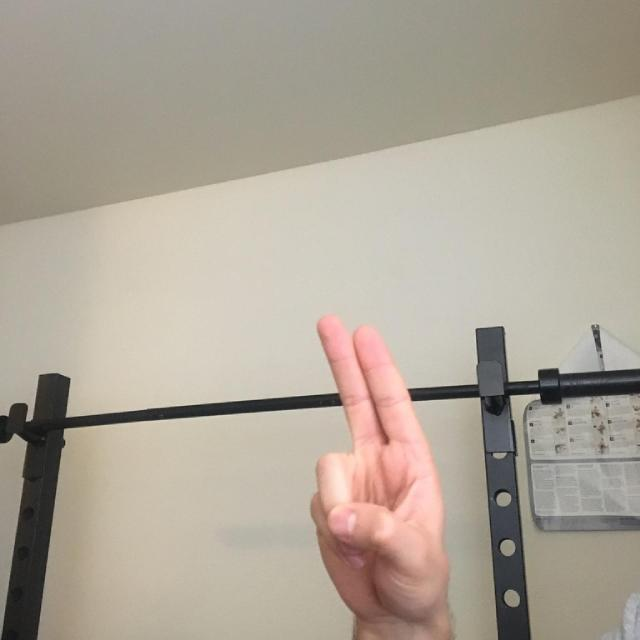U: (215, 250, 502, 640)
